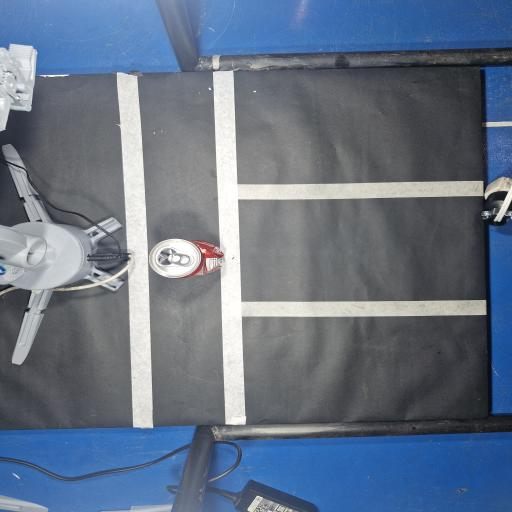lata_defectuoso: (149, 239, 223, 278)
